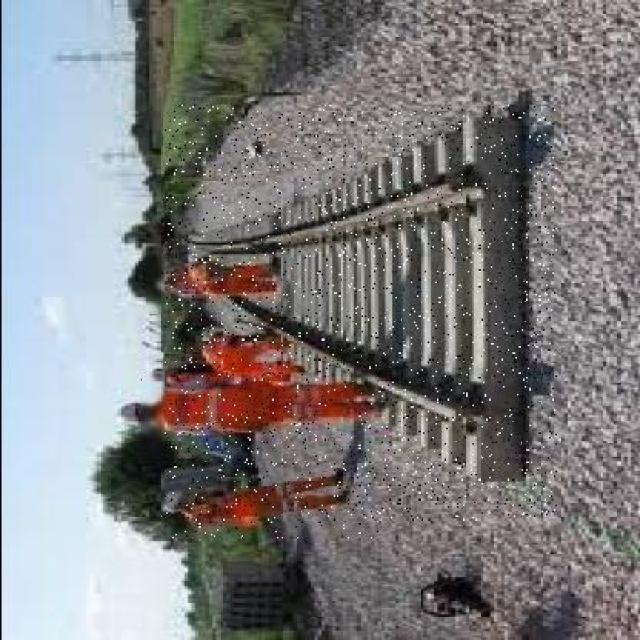danger: (139, 374, 367, 456), (158, 469, 377, 538), (144, 255, 290, 314), (169, 334, 323, 388)
rail: (164, 105, 555, 520)
